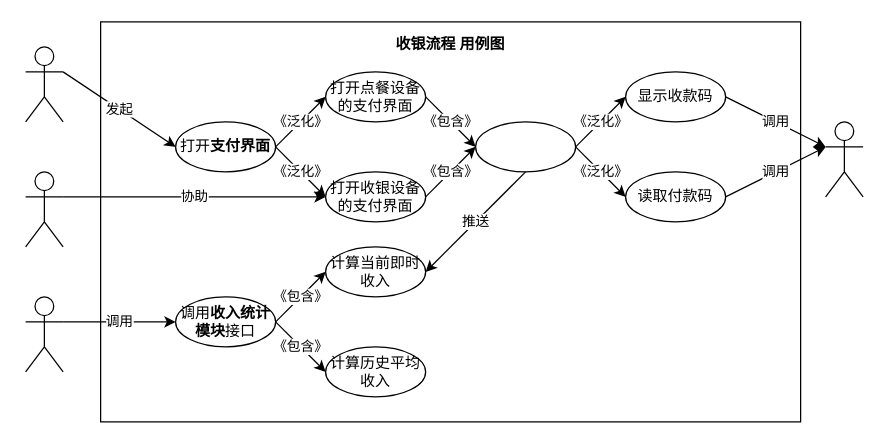
Some shapes in this 895 by 444 pixel diagram are drawn without their labels. Each missing label, with the centre of its shape:
使用 支付模块: the point at 525,146
支付接口: the point at 843,159
收银员: the point at 43,209
模拟器: the point at 43,334
顾客: the point at 43,84
